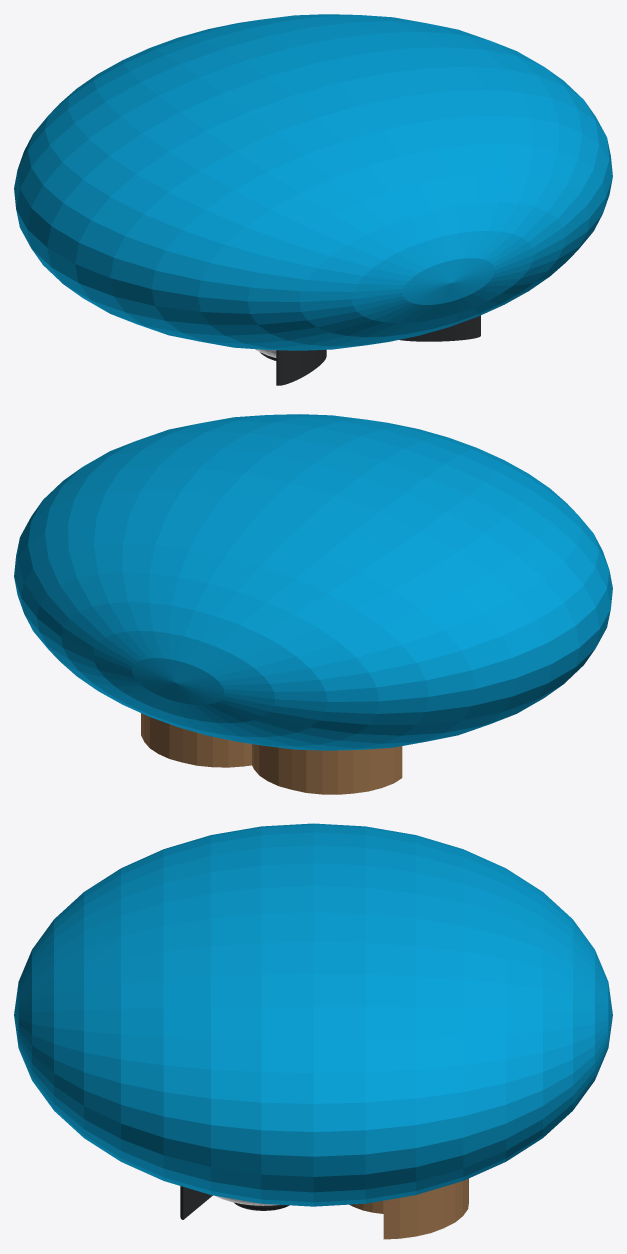
The model's file is tinker.obj.
3 views of the same model, one above another, from view 1: azimuth 30°, elevation 25°; view 2: azimuth 150°, elevation 25°; view 3: azimuth 270°, elevation 25° (orthographic). The views are drawn at different scales.
Visible parts, largest first — view 1: group_0_40919, group_0_2829873; view 2: group_0_40919, group_0_11107152; view 3: group_0_40919, group_0_11107152, group_0_2829873.
Part boxes in pixels (x1=…): group_0_40919: x1=14, y1=14, x2=612, y2=350; group_0_2829873: x1=260, y1=315, x2=480, y2=385; group_0_40919: x1=14, y1=414, x2=612, y2=750; group_0_11107152: x1=141, y1=713, x2=402, y2=794; group_0_40919: x1=14, y1=823, x2=612, y2=1206; group_0_11107152: x1=349, y1=1178, x2=468, y2=1239; group_0_2829873: x1=180, y1=1186, x2=289, y2=1219.
Bounding box in the file's own units: 47 × 22 × 42.
